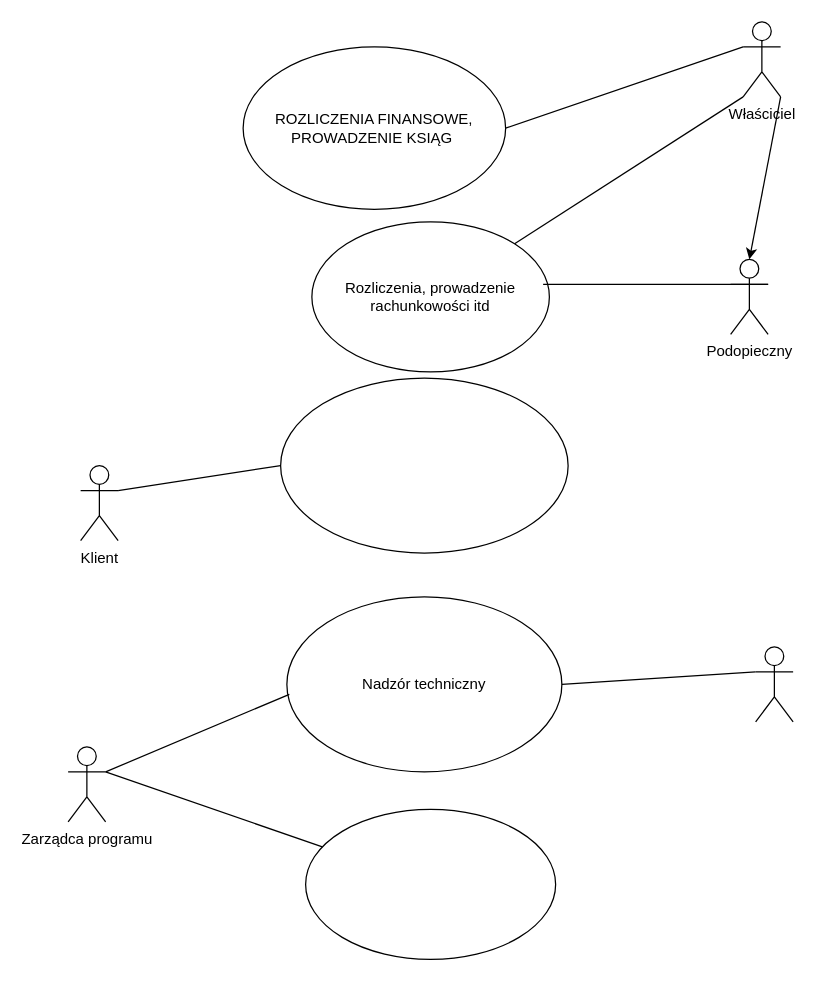
Image size: 826x981. Some labels were removed from this diagram. Each missing label, with the centre of its shape:
Inspektor: (x=773, y=684)
Prowadzenie aktualności, Całości programu,: (x=430, y=883)
Rozliczanie się, dostawa dokumentów, zaświadczenia: (x=423, y=465)
